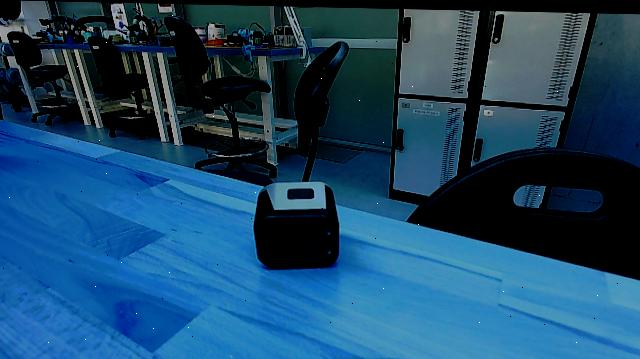adapter: (250, 175, 348, 275)
